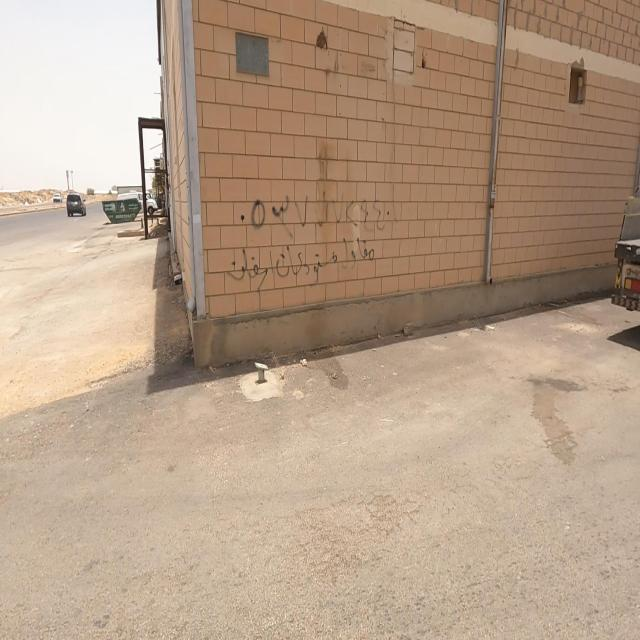Graffiti: (228, 197, 393, 294)
